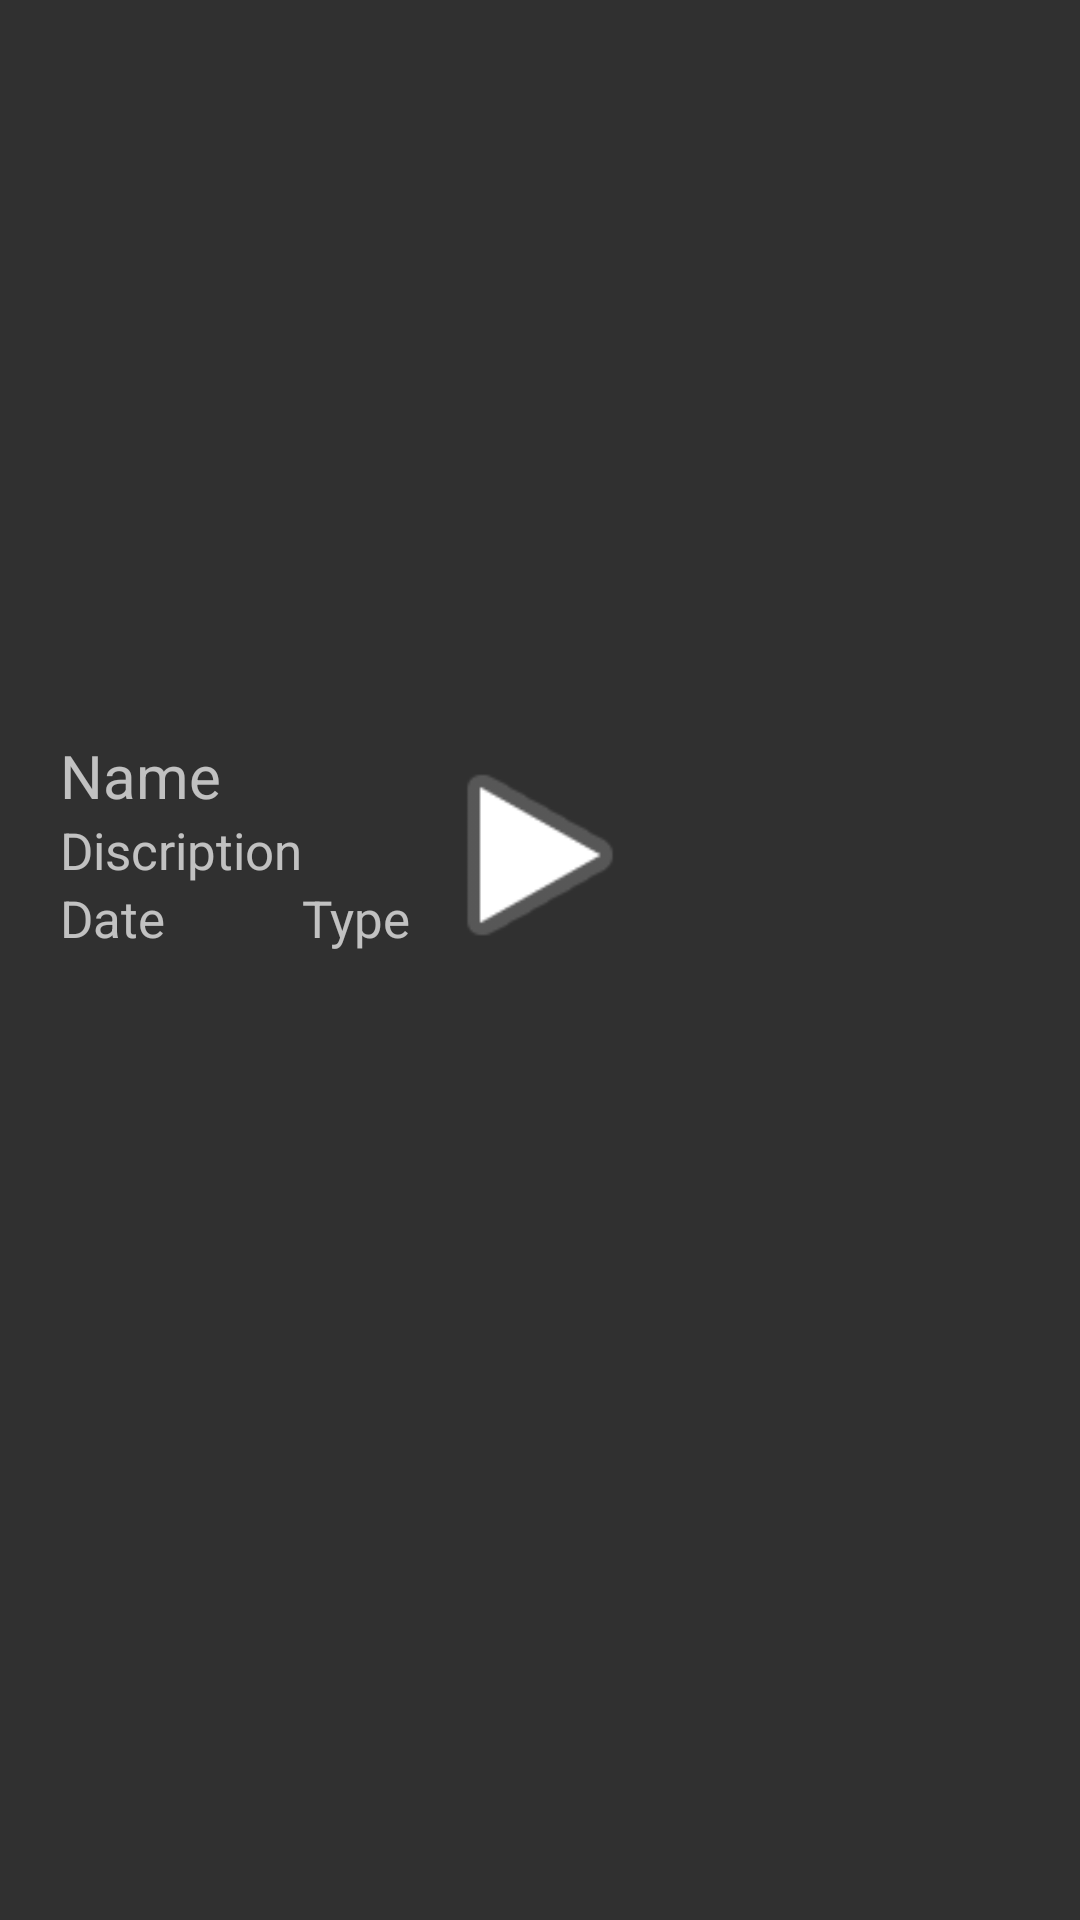

Icon click points for this 1080 × 1920 phone screenshot, format [x,y]:
play: [540,855]
